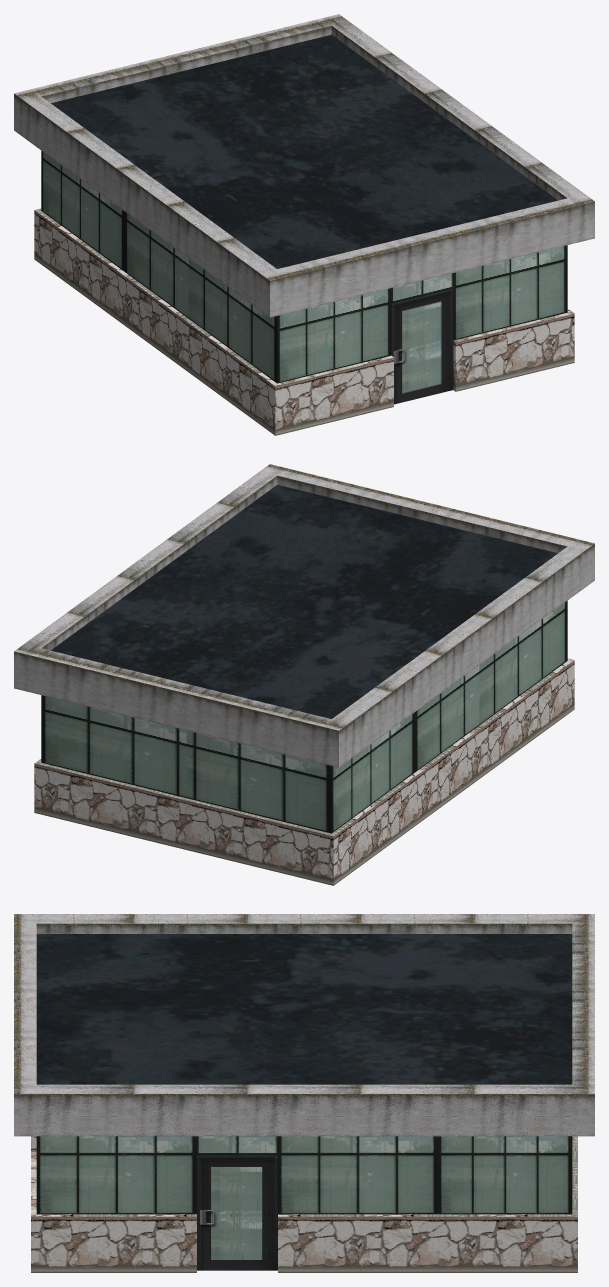
Rendered from gatehouse2_sfse.obj.
3 renders of one model, top to bottom at view 1: azimuth 30°, elevation 25°; view 2: azimuth 150°, elevation 25°; view 3: azimuth 270°, elevation 25°, orthographic. The views are drawn at different scales.
Visible parts, largest first — view 1: gatehouse2_SFSe; view 2: gatehouse2_SFSe; view 3: gatehouse2_SFSe.
Part boxes in pixels (x1,y1,x2,y2): gatehouse2_SFSe: [14, 14, 594, 435]; gatehouse2_SFSe: [14, 464, 594, 885]; gatehouse2_SFSe: [14, 914, 594, 1272].
Bounding box in the file's own units: 7.51 × 3.62 × 10.23.
5 materials, 5 textured.
